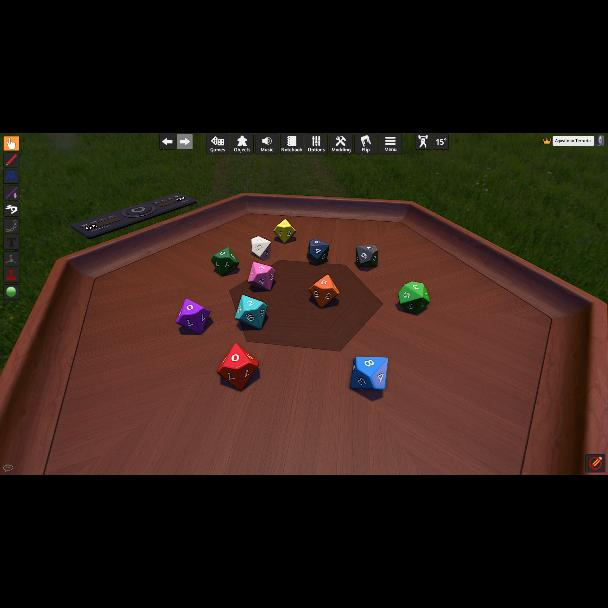d10: (218, 342, 260, 390), (348, 355, 385, 389), (176, 298, 210, 334), (235, 295, 268, 329), (398, 281, 428, 313), (309, 276, 339, 308), (248, 262, 276, 290), (212, 247, 239, 276), (308, 240, 330, 264), (355, 246, 377, 268), (250, 236, 272, 258), (274, 220, 294, 244)
